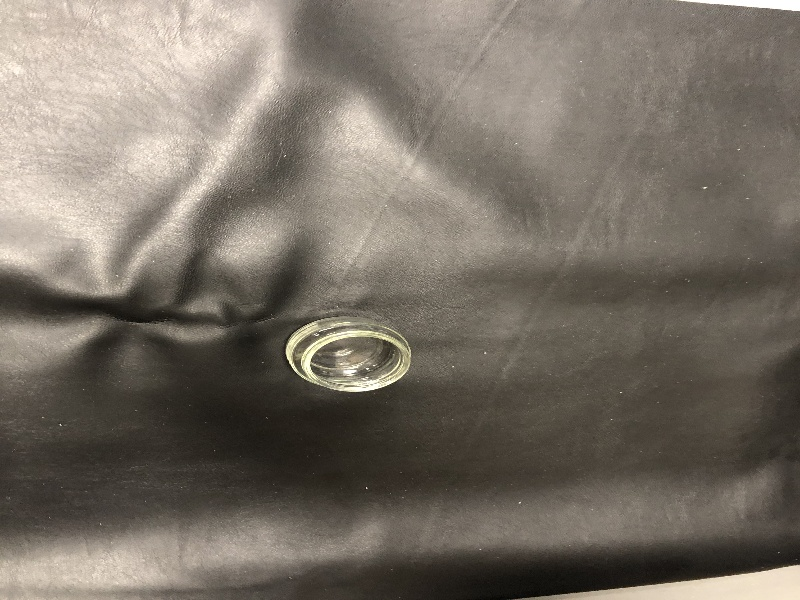glass: (278, 306, 418, 399)
